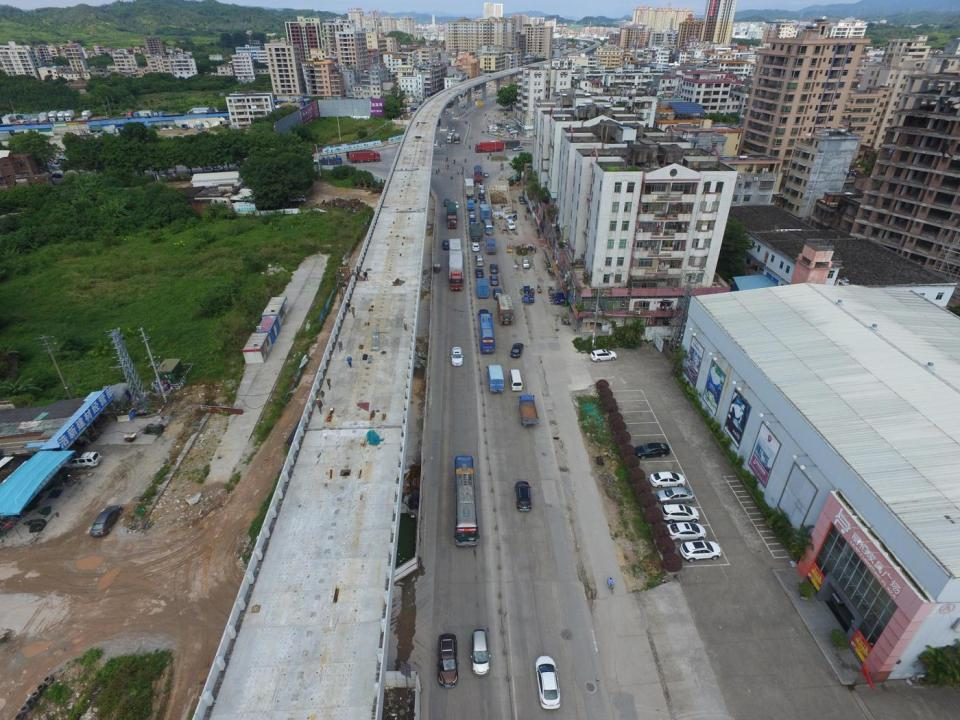bus: (453, 456, 478, 548)
car: (535, 655, 559, 708), (438, 634, 458, 688), (90, 506, 122, 537), (472, 630, 490, 676), (681, 540, 721, 560), (668, 522, 708, 542), (656, 486, 694, 504), (662, 505, 700, 522), (650, 472, 686, 488), (634, 443, 669, 459), (514, 480, 532, 511), (592, 350, 615, 362), (451, 346, 463, 366), (510, 343, 524, 358), (494, 287, 502, 301), (475, 255, 483, 267), (490, 275, 498, 286), (490, 263, 498, 273), (476, 268, 484, 278), (442, 239, 449, 250), (506, 215, 517, 222), (472, 242, 479, 252), (508, 221, 516, 229), (518, 196, 526, 204), (512, 146, 523, 150), (444, 199, 450, 206), (484, 171, 490, 177), (469, 212, 474, 218), (478, 194, 484, 199), (479, 183, 484, 189), (471, 197, 477, 202), (480, 200, 486, 204), (480, 188, 484, 193), (451, 128, 455, 131), (449, 132, 452, 135)
truck: (449, 239, 464, 292), (478, 310, 495, 354), (518, 395, 538, 426), (497, 295, 516, 324), (487, 366, 505, 392), (346, 150, 381, 163), (476, 140, 505, 153), (475, 278, 488, 299), (448, 202, 458, 227), (319, 156, 342, 165), (479, 204, 491, 221), (470, 224, 481, 242), (498, 140, 520, 149), (465, 178, 474, 198), (485, 237, 496, 253), (474, 166, 483, 182), (484, 218, 493, 234), (467, 200, 474, 211), (446, 134, 452, 144), (454, 132, 460, 142)
van: (64, 451, 101, 469), (509, 370, 523, 391), (522, 256, 529, 268)
